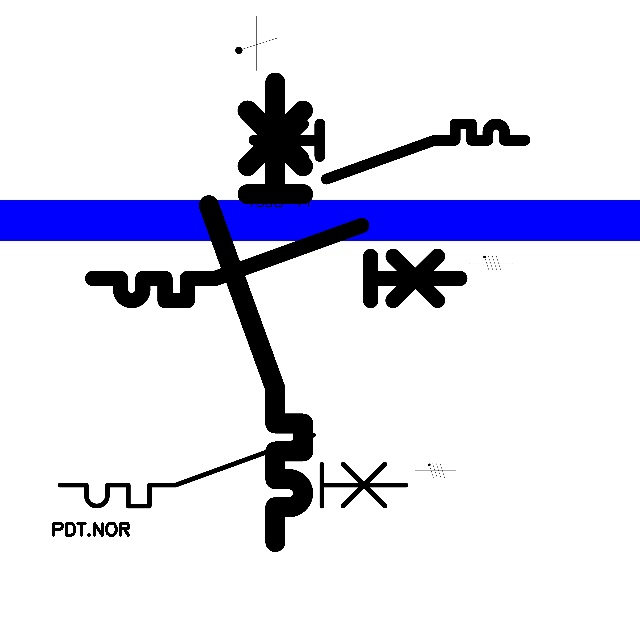interruptor_termomagnetico: (197, 70, 315, 553), (83, 216, 470, 310), (51, 426, 415, 515), (247, 117, 532, 186)
